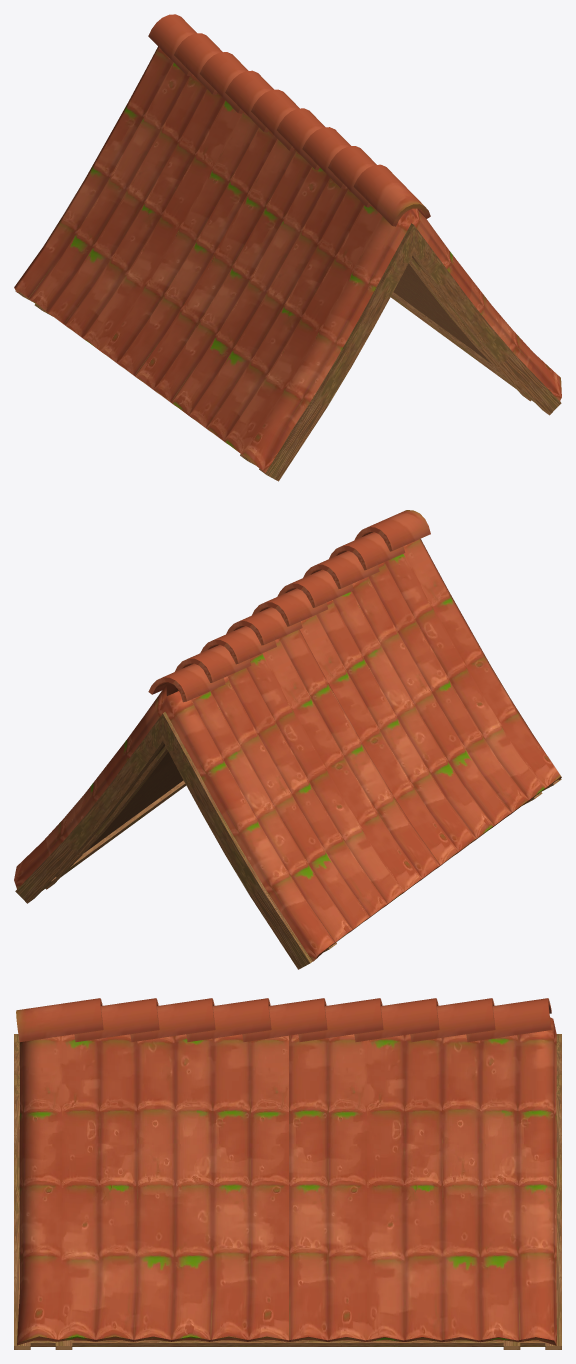
The model's file is Roof_RoundTiles_4x6.glb.
The picture shows the model from 3 angles, top to bottom: view 1: azimuth 30°, elevation 25°; view 2: azimuth 150°, elevation 25°; view 3: azimuth 270°, elevation 25°; orthographic projection. The views are drawn at different scales.
Visible parts, largest first — view 1: Roof_RoundTiles_4x6; view 2: Roof_RoundTiles_4x6; view 3: Roof_RoundTiles_4x6.
Boxes of the visible parts, x1,y1,x2,y2 form: Roof_RoundTiles_4x6: [14, 14, 561, 481]; Roof_RoundTiles_4x6: [14, 510, 561, 969]; Roof_RoundTiles_4x6: [14, 998, 561, 1349].
Bounding box in the file's own units: 5.51 × 4.23 × 7.57.
2 materials, 2 textured.
